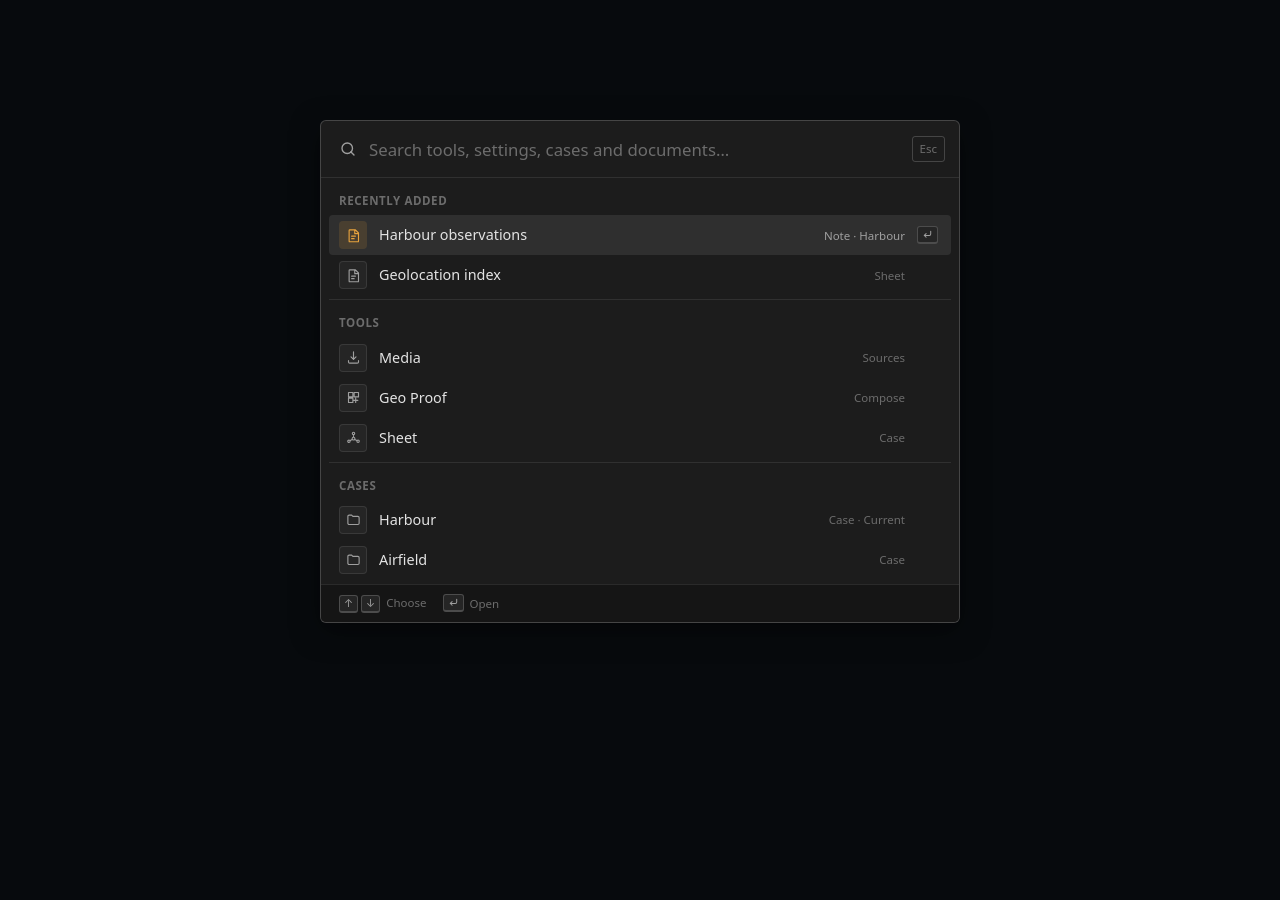
Scenario: Go to › shows truncation only for a search, not for the eight recently added items
This screenshot has width=1280, height=900.
Check: the text "refine your search" is not shown
Type "Harbour" into the dropdown with placeholder "Search tools, settings, cases and documents…".
click(634, 149); type("Harbour")  # box [369,121,900,177]
Wait 160 ms
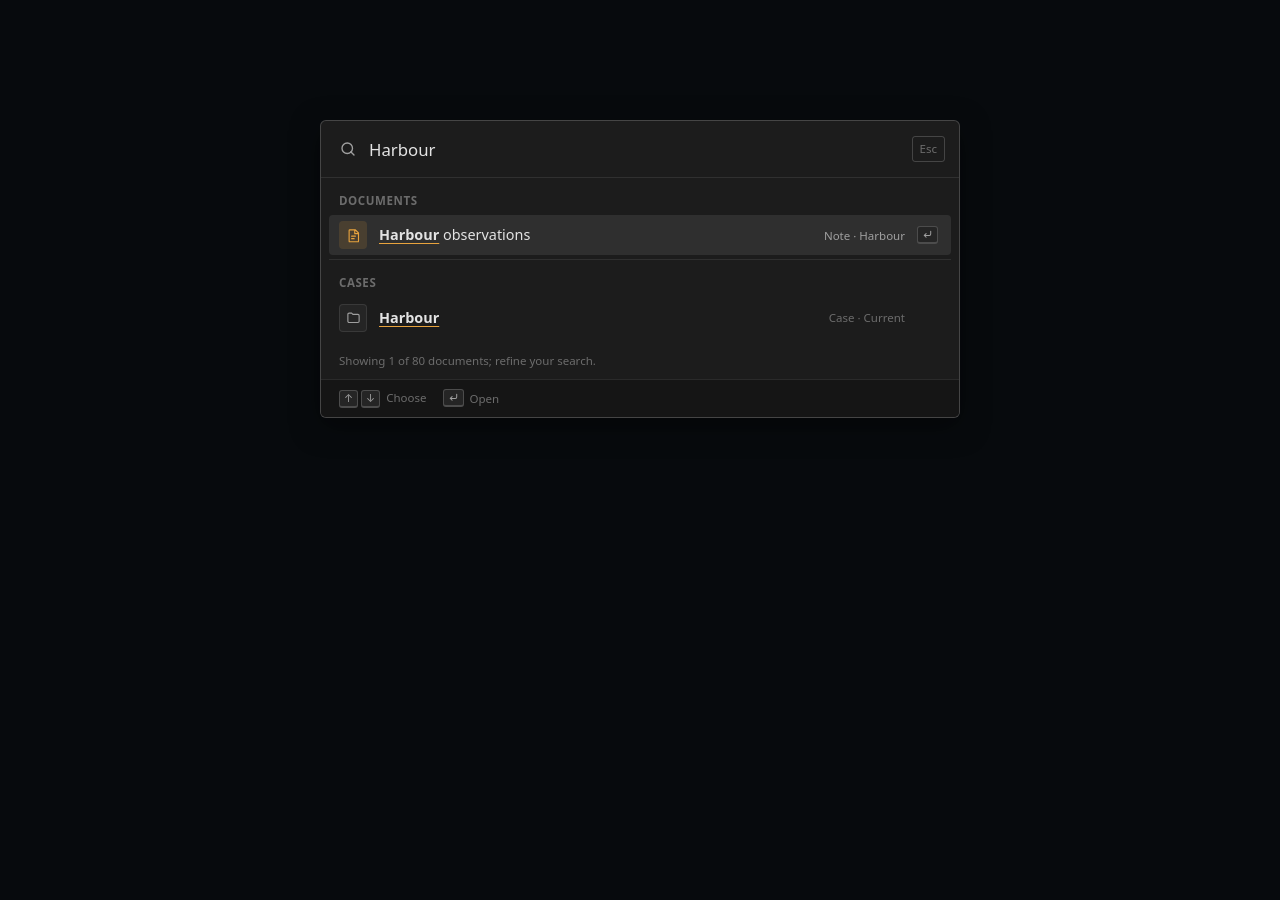
Check: the message "Showing 1 of 80 documents; refine your search." is shown, box [339,352,596,368]
